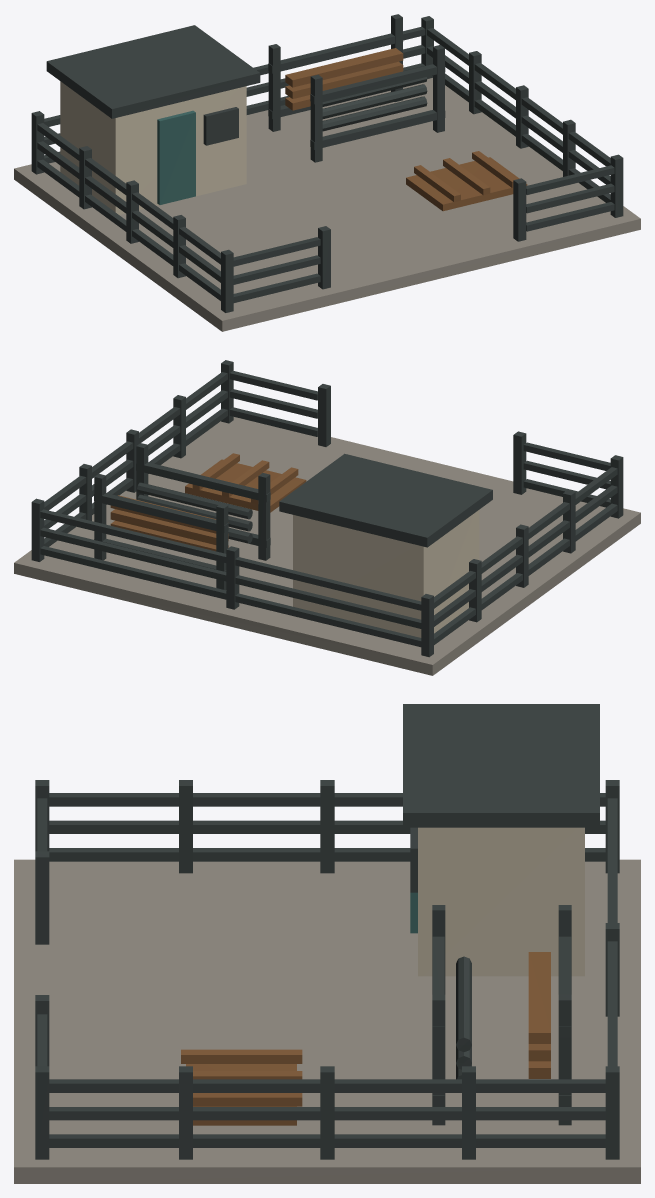
File: construction-yard.source.glb
The picture shows the model from 3 angles, top to bottom: view 1: azimuth 30°, elevation 25°; view 2: azimuth 150°, elevation 25°; view 3: azimuth 270°, elevation 25°; orthographic projection. The views are drawn at different scales.
Visible parts, largest first — view 1: construction-yard-grounded-yard-base-mesh, construction-yard-site-office-dark-roof-mesh, construction-yard-small-cream-site-office-mesh, construction-yard-site-office-teal-door-mesh, construction-yard-clean-pallet-bay-mesh, construction-yard-left-fence-rail-0.35-mesh, construction-yard-left-fence-rail-0.65-mesh, construction-yard-left-fence-rail-0.95-mesh, construction-yard-right-fence-rail-0.95-mesh, construction-yard-right-fence-rail-0.65-mesh, construction-yard-secured-timber-beam-1.05-mesh, construction-yard-right-fence-rail-0.35-mesh (+34 smaller); view 2: construction-yard-grounded-yard-base-mesh, construction-yard-small-cream-site-office-mesh, construction-yard-site-office-dark-roof-mesh, construction-yard-rear-fence-rail-0.95-mesh, construction-yard-rear-fence-rail-0.35-mesh, construction-yard-rear-fence-rail-0.65-mesh, construction-yard-left-fence-rail-0.35-mesh, construction-yard-left-fence-rail-0.65-mesh, construction-yard-left-fence-rail-0.95-mesh, construction-yard-right-fence-rail-0.95-mesh, construction-yard-clean-pallet-bay-mesh, construction-yard-right-fence-rail-0.65-mesh (+34 smaller); view 3: construction-yard-grounded-yard-base-mesh, construction-yard-site-office-dark-roof-mesh, construction-yard-small-cream-site-office-mesh, construction-yard-right-fence-rail-0.35-mesh, construction-yard-right-fence-rail-0.95-mesh, construction-yard-right-fence-rail-0.65-mesh, construction-yard-left-fence-rail-0.35-mesh, construction-yard-left-fence-rail-0.65-mesh, construction-yard-left-fence-rail-0.95-mesh, construction-yard-rear-fence-rail-0.95-mesh, construction-yard-secured-timber-beam-1.05-mesh, construction-yard-pallet-slat-1.4-mesh (+18 smaller).
Part boxes in pixels (<box>): construction-yard-grounded-yard-base-mesh: <box>14,78,640,331</box>; construction-yard-site-office-dark-roof-mesh: <box>46,25,260,118</box>; construction-yard-small-cream-site-office-mesh: <box>60,81,246,214</box>; construction-yard-site-office-teal-door-mesh: <box>157,110,195,204</box>; construction-yard-clean-pallet-bay-mesh: <box>406,157,527,211</box>; construction-yard-left-fence-rail-0.35-mesh: <box>37,159,220,300</box>; construction-yard-left-fence-rail-0.65-mesh: <box>37,141,220,282</box>; construction-yard-left-fence-rail-0.95-mesh: <box>37,123,220,264</box>; construction-yard-right-fence-rail-0.95-mesh: <box>427,28,610,166</box>; construction-yard-right-fence-rail-0.65-mesh: <box>427,46,610,184</box>; construction-yard-secured-timber-beam-1.05-mesh: <box>285,48,403,87</box>; construction-yard-right-fence-rail-0.35-mesh: <box>432,73,610,202</box>; construction-yard-grounded-yard-base-mesh: <box>14,417,640,675</box>; construction-yard-small-cream-site-office-mesh: <box>293,510,479,637</box>; construction-yard-site-office-dark-roof-mesh: <box>279,453,492,547</box>; construction-yard-rear-fence-rail-0.95-mesh: <box>40,509,421,610</box>; construction-yard-rear-fence-rail-0.35-mesh: <box>40,546,421,647</box>; construction-yard-rear-fence-rail-0.65-mesh: <box>40,527,421,628</box>; construction-yard-left-fence-rail-0.35-mesh: <box>434,503,617,644</box>; construction-yard-left-fence-rail-0.65-mesh: <box>434,485,617,626</box>; construction-yard-left-fence-rail-0.95-mesh: <box>434,467,617,608</box>; construction-yard-right-fence-rail-0.95-mesh: <box>44,372,227,510</box>; construction-yard-clean-pallet-bay-mesh: <box>185,459,306,512</box>; construction-yard-right-fence-rail-0.65-mesh: <box>44,390,227,528</box>; construction-yard-grounded-yard-base-mesh: <box>14,859,640,1183</box>; construction-yard-site-office-dark-roof-mesh: <box>403,704,599,827</box>; construction-yard-small-cream-site-office-mesh: <box>418,827,584,976</box>; construction-yard-right-fence-rail-0.35-mesh: <box>49,1134,605,1147</box>; construction-yard-right-fence-rail-0.95-mesh: <box>49,1079,605,1092</box>; construction-yard-right-fence-rail-0.65-mesh: <box>49,1107,605,1120</box>; construction-yard-left-fence-rail-0.35-mesh: <box>49,848,605,861</box>; construction-yard-left-fence-rail-0.65-mesh: <box>49,820,605,833</box>; construction-yard-left-fence-rail-0.95-mesh: <box>49,793,605,806</box>; construction-yard-rear-fence-rail-0.95-mesh: <box>607,798,617,1066</box>; construction-yard-secured-timber-beam-1.05-mesh: <box>528,952,550,1043</box>; construction-yard-pallet-slat-1.4-mesh: <box>181,1049,302,1063</box>.
Bounding box in the file's own units: 7.2 × 2.03 × 6.2.
